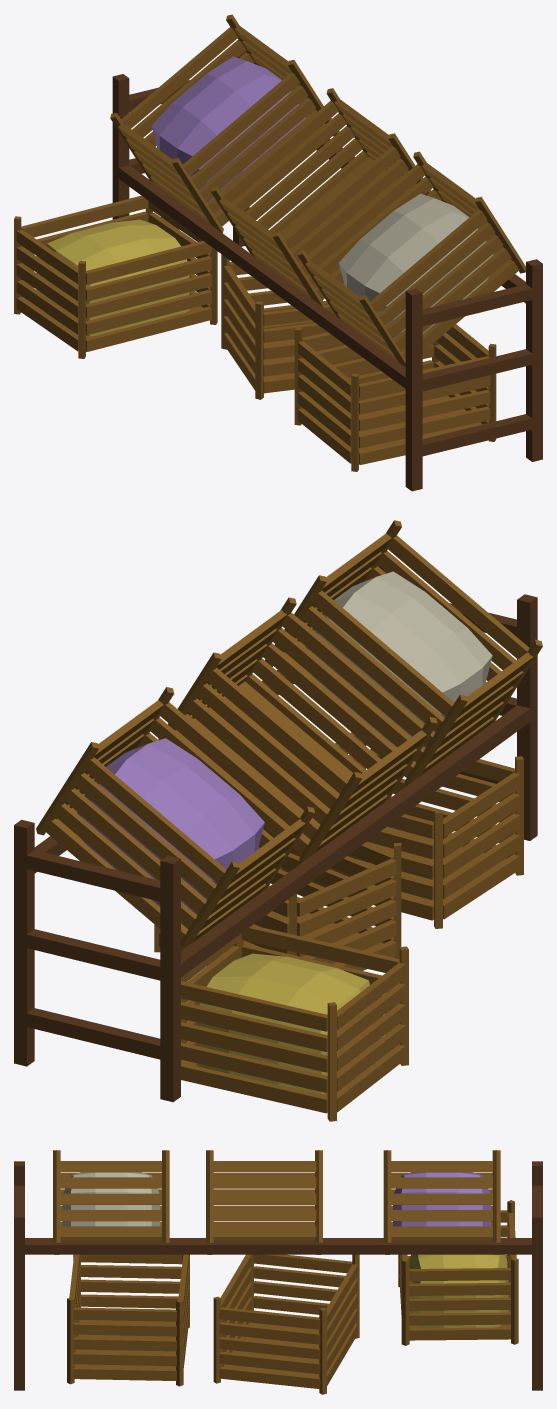
Rendered from Fruitbox_Rag_L.fbx.
3 renders of one model, top to bottom at view 1: azimuth 30°, elevation 25°; view 2: azimuth 150°, elevation 25°; view 3: azimuth 270°, elevation 25°, orthographic. The views are drawn at different scales.
Parts seen in each view (by area): view 1: Fruitbox - With.001, Fruitbox - With.002, Fruitbox - With, Fruitbox.001, Fruitbox, Fruitbox.002, Cube.005, Cube.007, Cube.002, Cube.001, Cube.003; view 2: Fruitbox - With, Fruitbox - With.001, Fruitbox.001, Fruitbox - With.002, Fruitbox, Fruitbox.002, Cube.005, Cube.006, Cube.003, Cube, Cube.002; view 3: Fruitbox.002, Fruitbox, Fruitbox - With.001, Fruitbox - With, Fruitbox - With.002, Fruitbox.001, Cube.004, Cube, Cube.001, Cube.005, Cube.006, Cube.007.
Part boxes in pixels (x1,y1,x2,y2): Fruitbox - With.001: (14,195,217,358); Fruitbox - With.002: (297,151,525,366); Fruitbox - With: (110,14,339,233); Fruitbox.001: (211,88,431,306); Fruitbox: (294,324,496,471); Fruitbox.002: (221,254,380,399); Cube.005: (118,165,405,388); Cube.007: (422,284,532,456); Cube.002: (405,288,422,491); Cube.001: (526,259,542,461); Cube.003: (112,74,129,219); Fruitbox - With: (36,687,314,950); Fruitbox - With.001: (181,925,408,1121); Fruitbox.001: (158,597,437,863); Fruitbox - With.002: (265,520,542,786); Fruitbox: (280,732,523,928); Fruitbox.002: (154,828,401,970); Cube.005: (181,705,530,977); Cube.006: (27,850,160,1059); Cube.003: (160,855,180,1102); Cube: (14,819,34,1066); Cube.002: (517,594,537,840); Fruitbox.002: (213,1254,359,1394); Fruitbox: (67,1254,189,1386); Fruitbox - With.001: (398,1200,518,1345); Fruitbox - With: (383,1150,500,1254); Fruitbox - With.002: (53,1150,169,1254); Fruitbox.001: (206,1150,322,1254); Cube.004: (25,1240,531,1254); Cube: (532,1213,542,1390); Cube.001: (14,1213,24,1390); Cube.005: (25,1238,531,1240); Cube.006: (532,1185,542,1212); Cube.007: (14,1185,24,1212).
Size of the model in its own units: 96.2 by 90.85 by 194.
